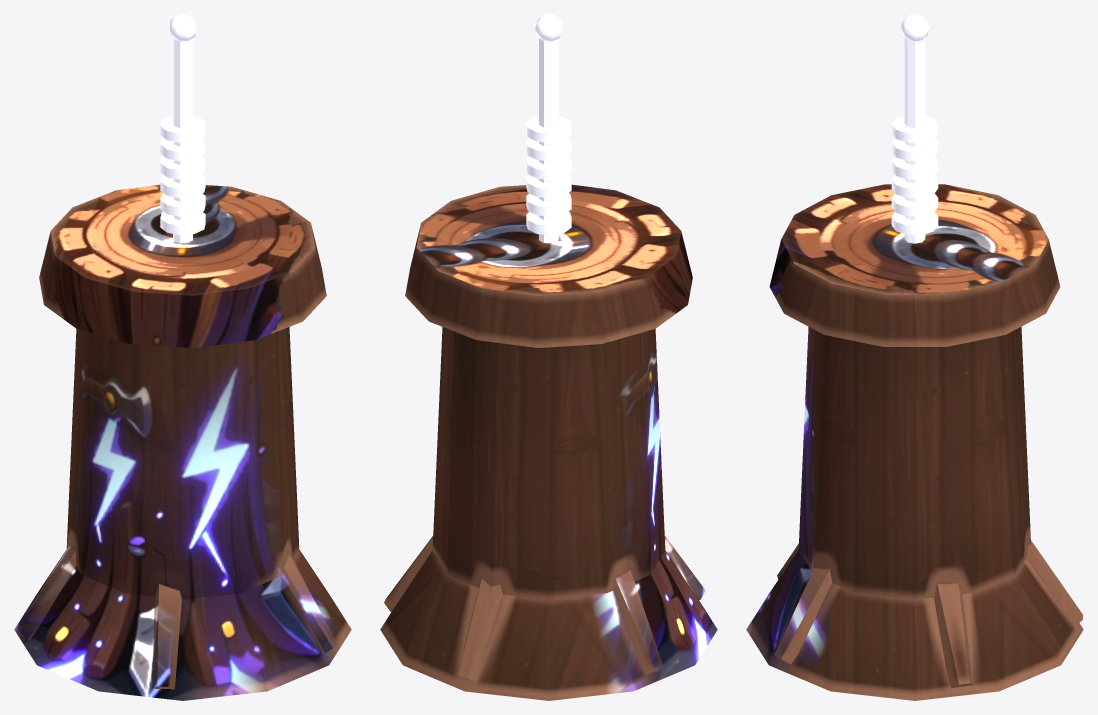
The model's file is spark.glb.
3 renders of one model, left to right at view 1: azimuth 30°, elevation 25°; view 2: azimuth 150°, elevation 25°; view 3: azimuth 270°, elevation 25°, orthographic.
Visible parts, largest first — view 1: spark; view 2: spark; view 3: spark.
Boxes of the visible parts, x1,y1,x2,y2 form: spark: (14,14,351,700); spark: (380,14,717,700); spark: (746,14,1083,700).
Bounding box in the file's own units: 1.16 × 2.33 × 1.16.
2 materials, 1 textured.
